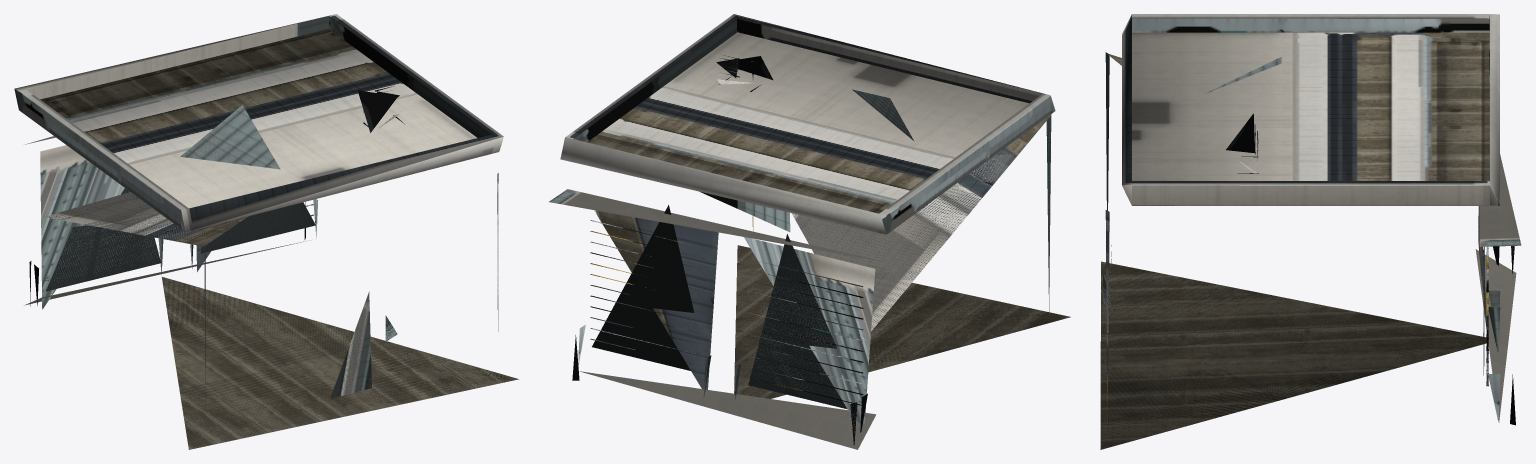
Rendered from factory_002.lod2.obj.
3 renders of one model, left to right at view 1: azimuth 30°, elevation 25°; view 2: azimuth 150°, elevation 25°; view 3: azimuth 270°, elevation 25°, orthographic. The views are drawn at different scales.
Parts seen in each view (by area): view 1: factory_002; view 2: factory_002; view 3: factory_002.
Part boxes in pixels (box(x1,y1,x2,y2)): factory_002: box(14, 14, 518, 449); factory_002: box(549, 14, 1070, 449); factory_002: box(1100, 14, 1521, 449).
Size of the model in its own units: 6.5 by 4.92 by 6.51.
Materials: 1 (1 with a texture image).
